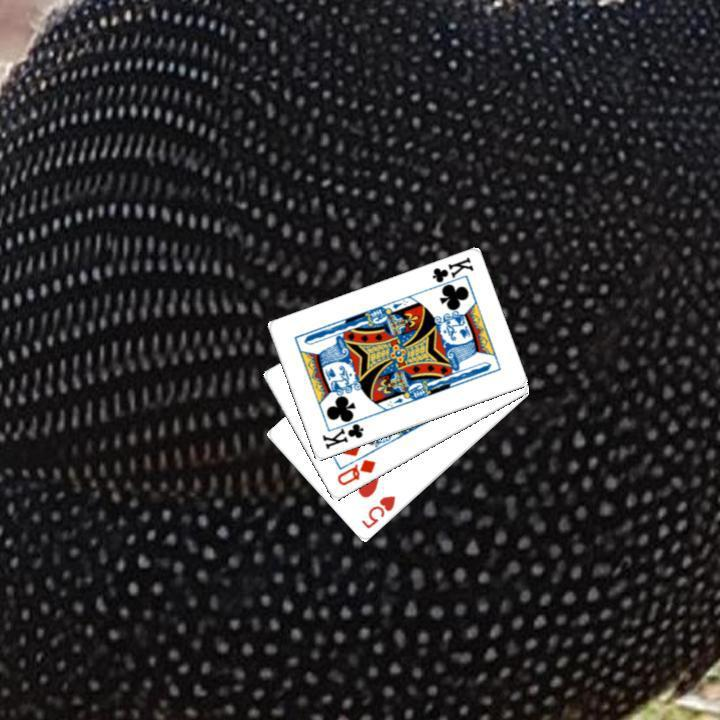5: (356, 492, 397, 531)
K: (317, 413, 366, 452), (426, 253, 475, 292)
Q: (332, 455, 378, 488)
